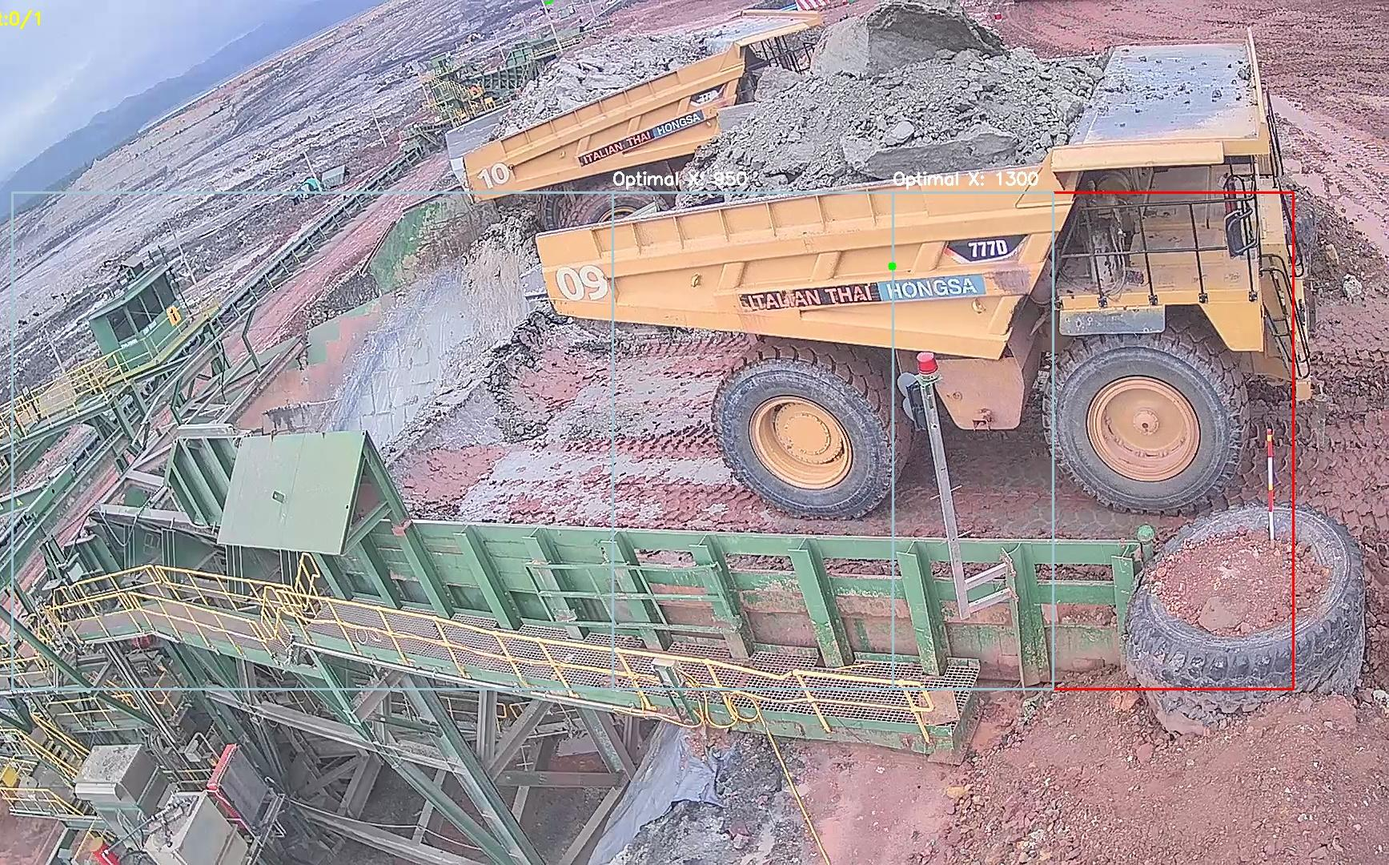company: (731, 267, 990, 322)
full_load: (696, 3, 1060, 204)
mining_truck: (530, 2, 1322, 517)
tail_number: (549, 256, 615, 310)
truck_size: (941, 237, 1041, 261)
